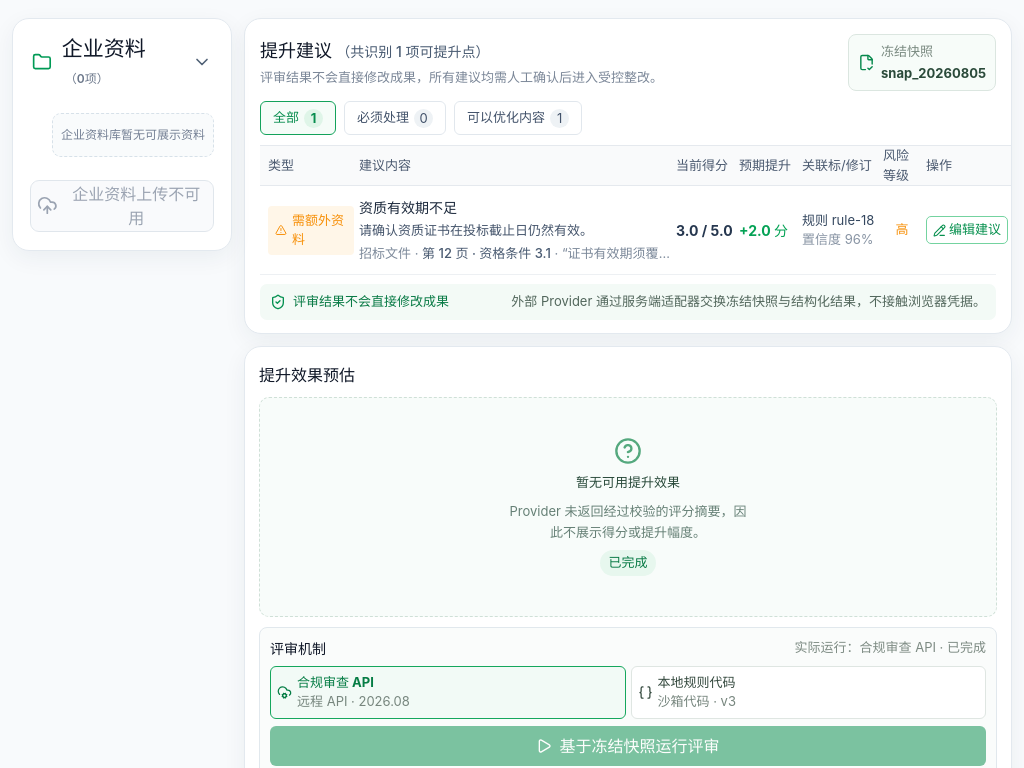
ReviewCenter › cancels suggestion editing without changing the displayed content
Click the button with aria-label "编辑建议：资质有效期不足". click: (967, 230)
box: [926,216,1008,244]
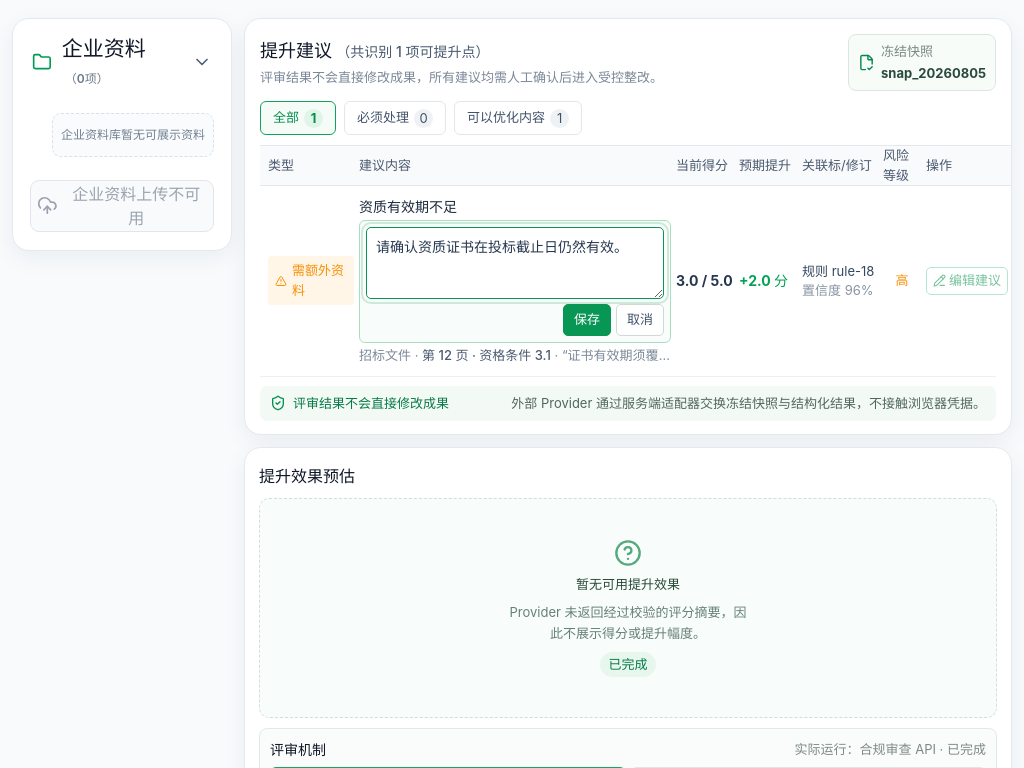
Replace the text in the text box named "编辑“资质有效期不足”的建议内容" with "这段内容不应保存". click: (515, 263)
box: [366,227,664,299]
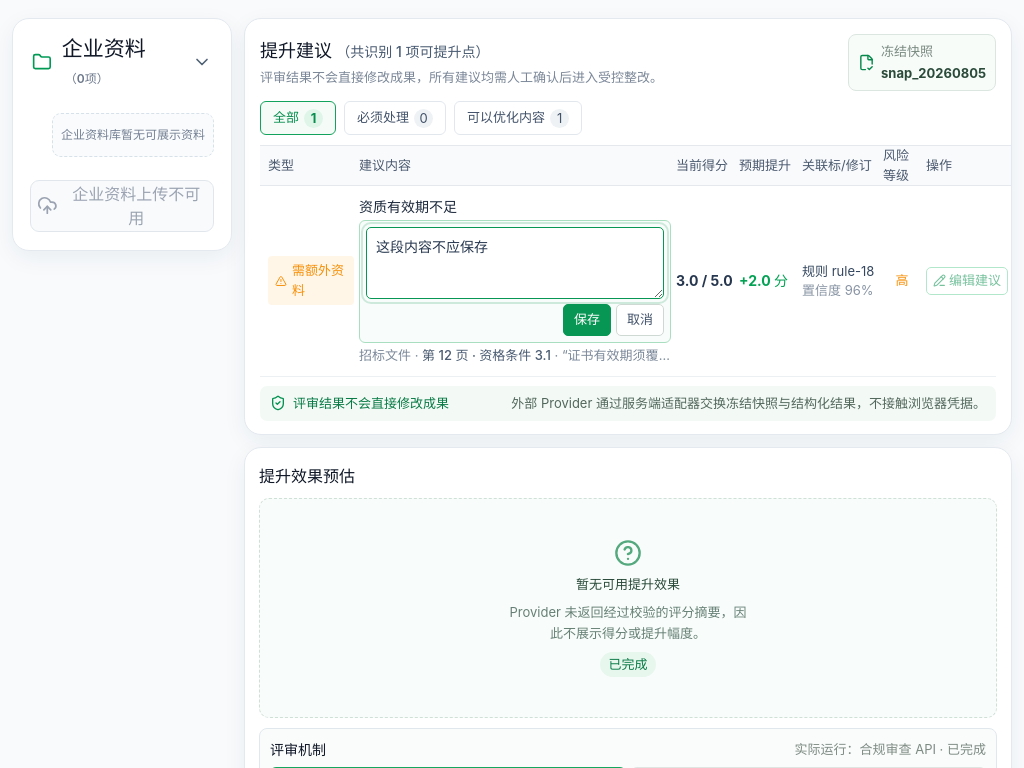
Click the button with aria-label "取消编辑：资质有效期不足". click: (640, 320)
box: [616,304,664,336]
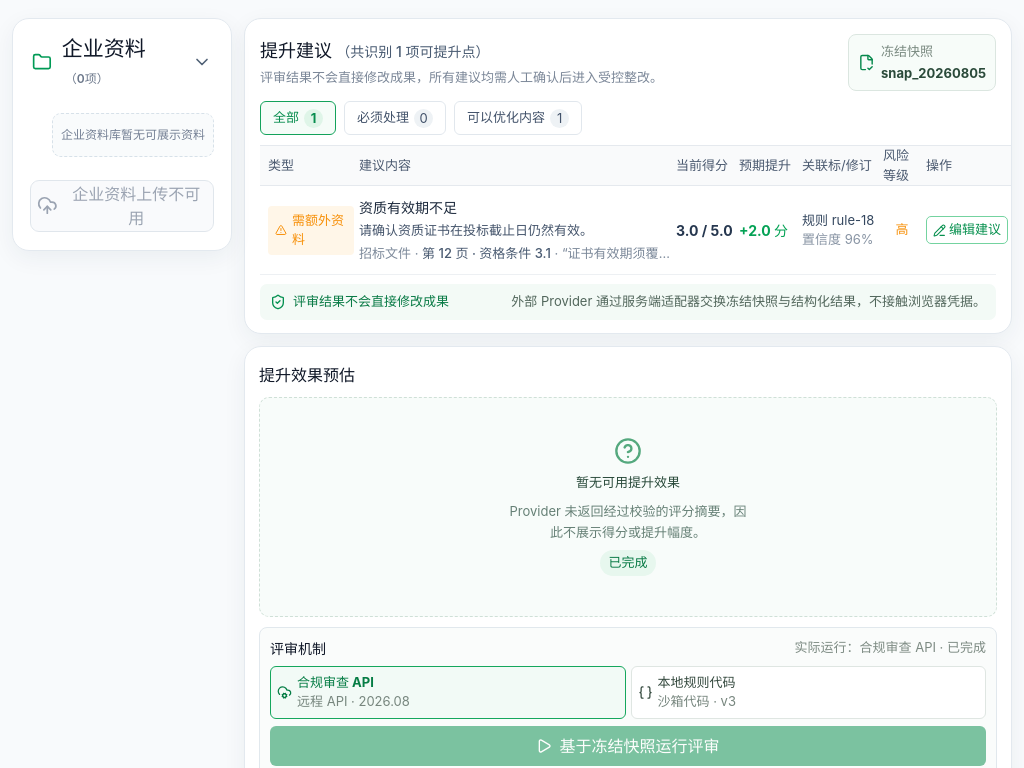
Check: the text "这段内容不应保存" is not shown
Check: the text "请确认资质证书在投标截止日仍然有效。" is shown, box [359,222,593,238]
